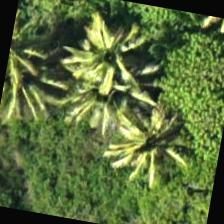Kelapa_Sawit: (51, 41, 155, 145), (98, 89, 202, 193), (60, 0, 165, 103), (0, 34, 69, 134)
